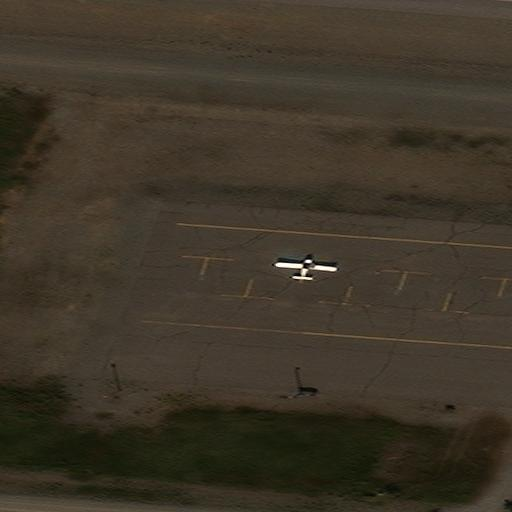Small Civil Transport: (276, 258, 336, 280)
